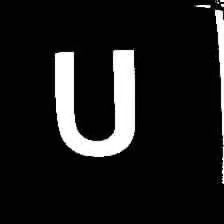LTR_U: (47, 39, 143, 163)
